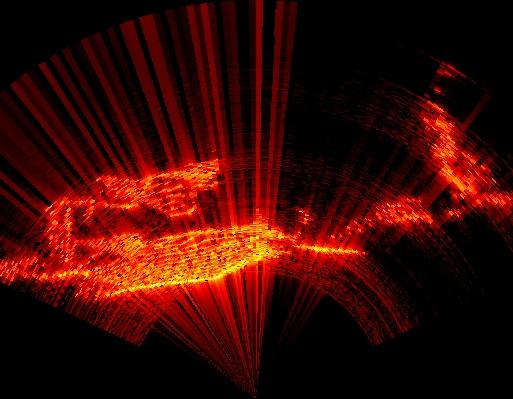shipwreck: (0, 208, 363, 296), (430, 101, 512, 207), (95, 159, 218, 216), (376, 198, 432, 222)
